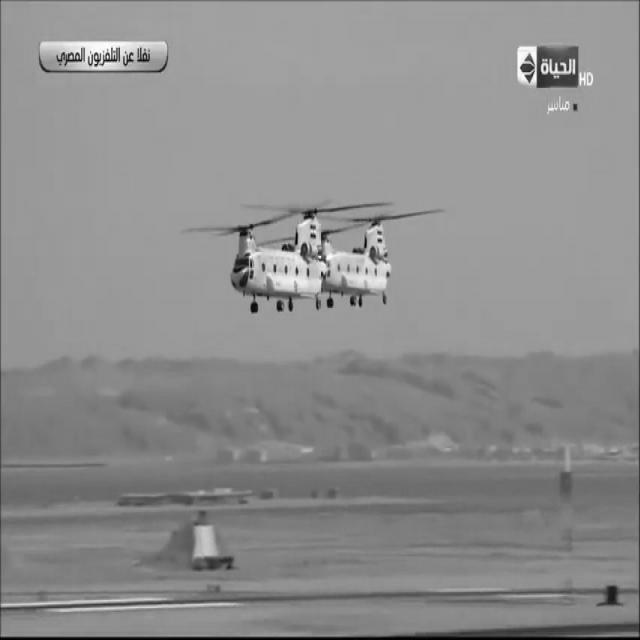helikopter: (198, 176, 458, 361)
